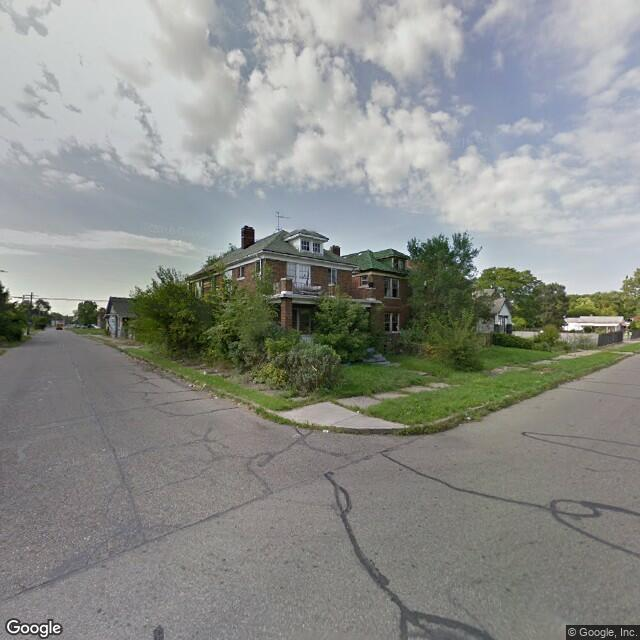litter: (188, 381, 207, 389), (465, 414, 478, 422), (320, 427, 332, 434), (201, 368, 207, 376), (355, 408, 361, 414)
